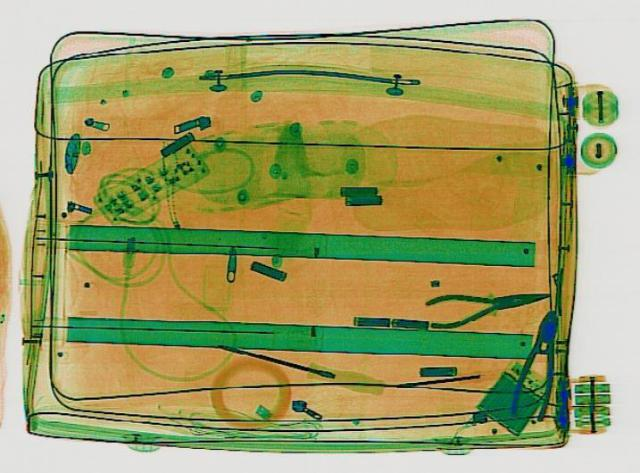Pliers: (506, 307, 572, 421), (420, 277, 554, 328)
